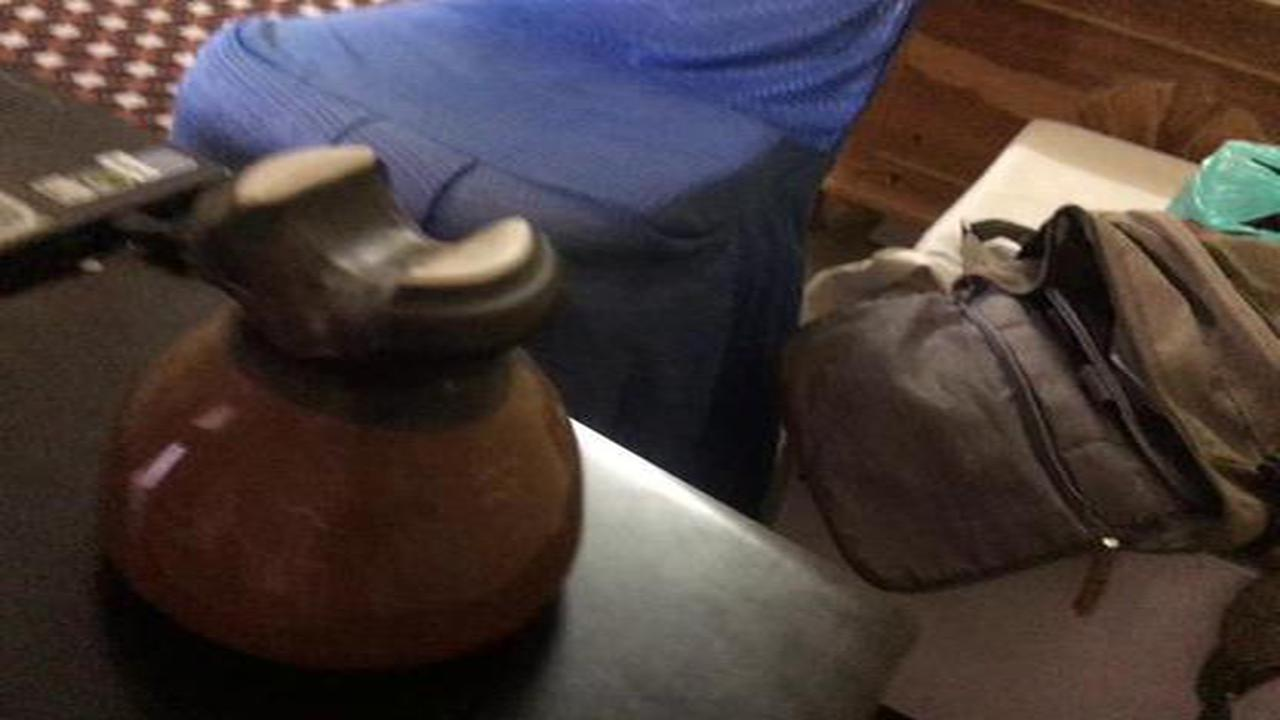insulator_pin: (84, 127, 613, 688)
